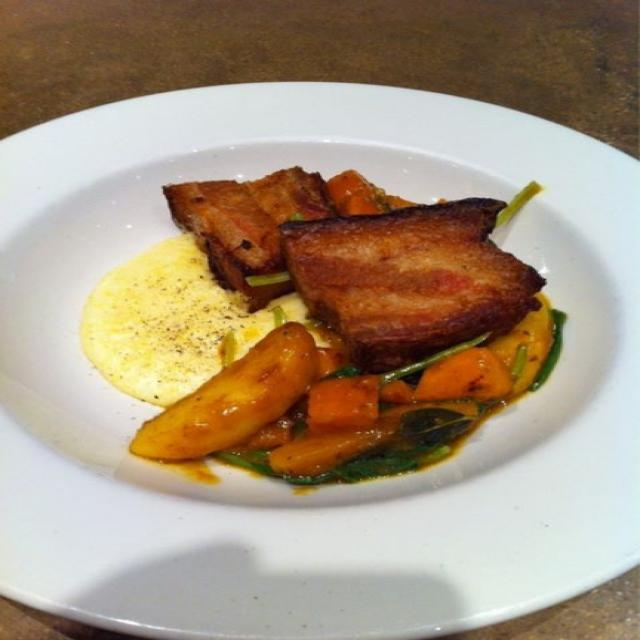牛肉菜式: (99, 148, 575, 466)
